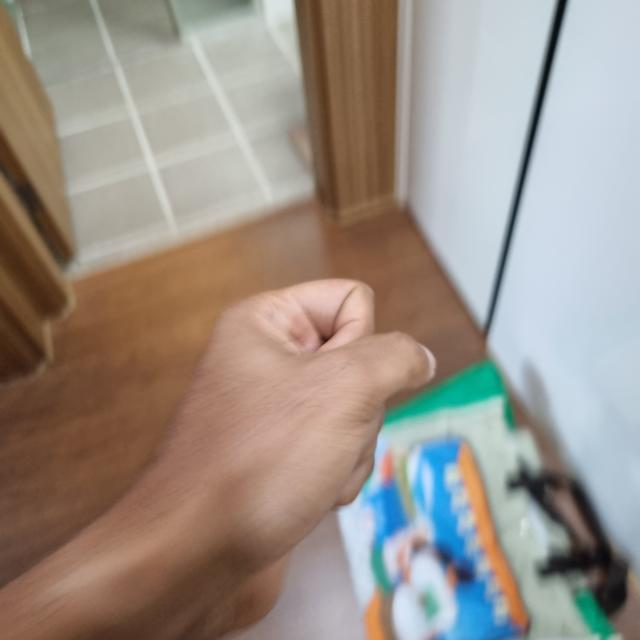Rock: (0, 206, 488, 639)
